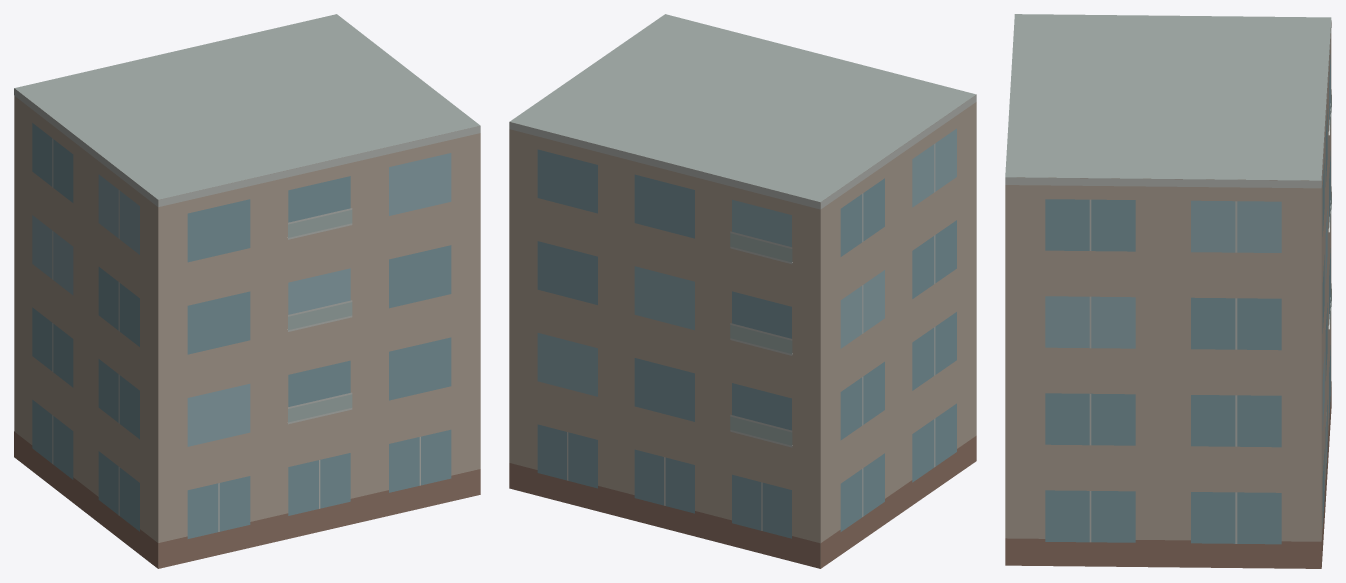
The model's file is survey-upis-32703158.glb.
The picture shows the model from 3 angles, left to right: view 1: azimuth 30°, elevation 25°; view 2: azimuth 150°, elevation 25°; view 3: azimuth 270°, elevation 25°; orthographic projection. The views are drawn at different scales.
Parts seen in each view (by area): view 1: survey-upis-32703158.tmp; view 2: survey-upis-32703158.tmp; view 3: survey-upis-32703158.tmp.
Part boxes in pixels (box(x1,y1,x2,y2)): survey-upis-32703158.tmp: box(14, 14, 480, 568); survey-upis-32703158.tmp: box(509, 14, 976, 568); survey-upis-32703158.tmp: box(1005, 14, 1331, 568).
Size of the model in its own units: 11.23 by 12.2 by 9.31.
